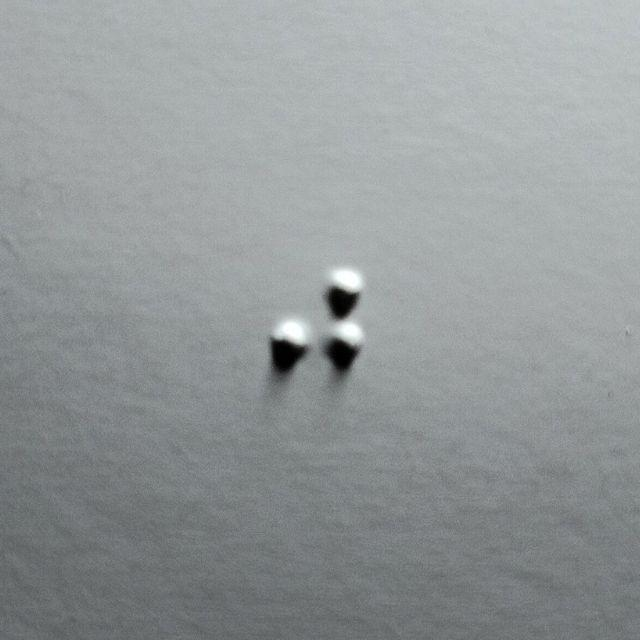j: (267, 266, 365, 420)
